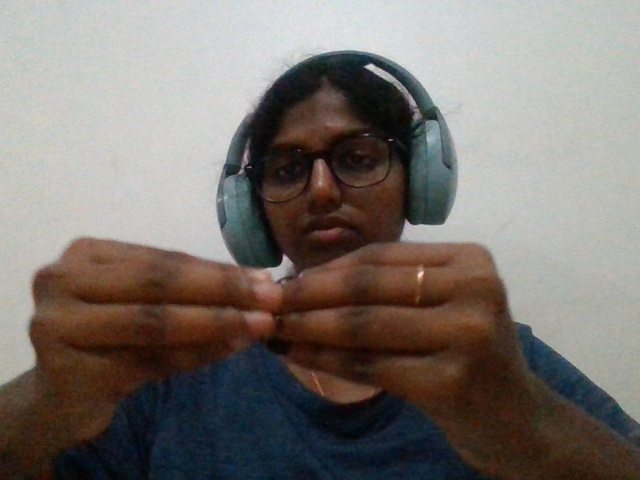More: (9, 197, 574, 480)
